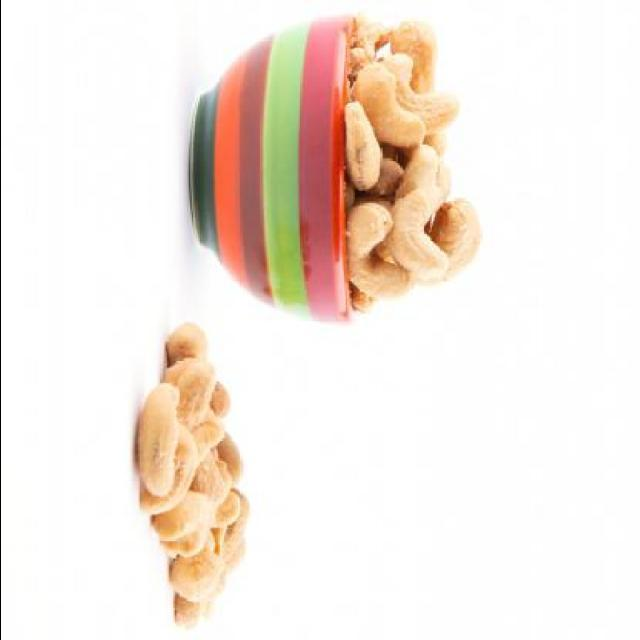Frutta secca: (330, 15, 484, 327), (127, 330, 247, 633)
